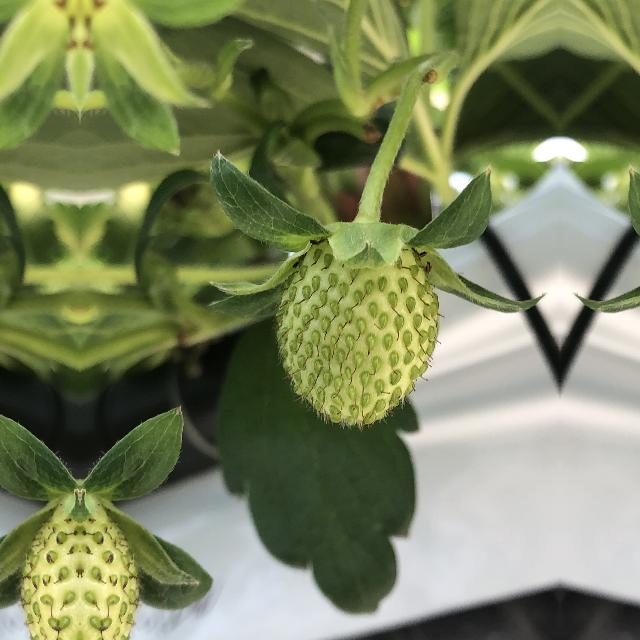Health_25: (275, 222, 447, 433)
